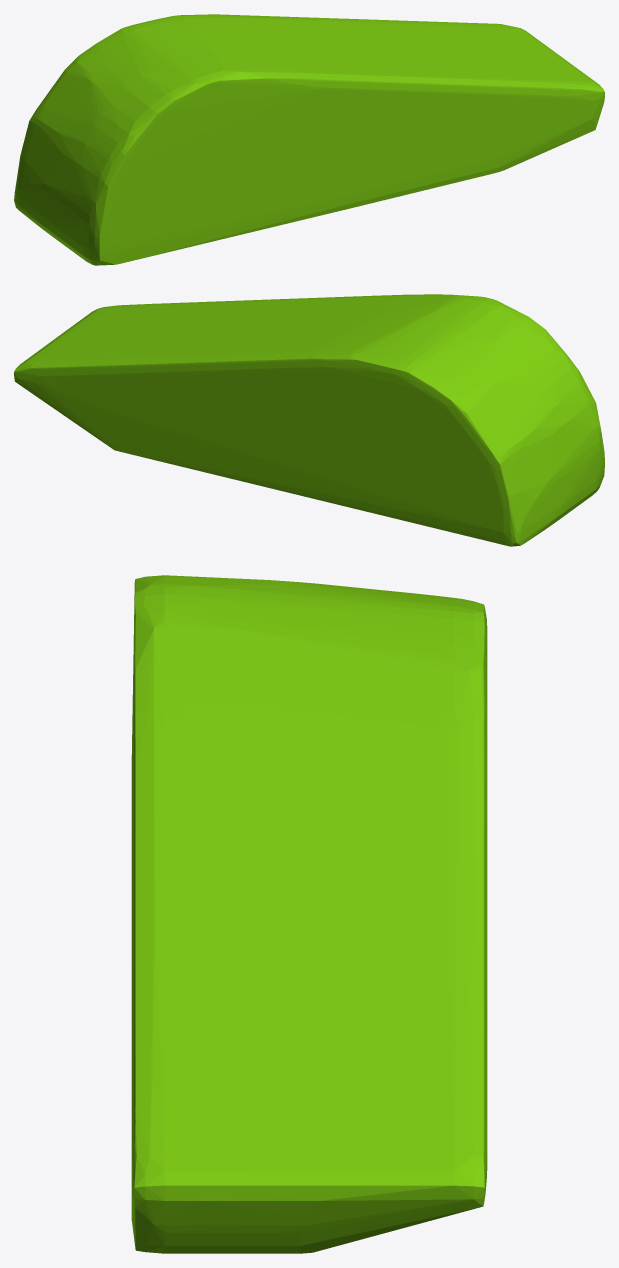
The picture shows the model from 3 angles, top to bottom: view 1: azimuth 30°, elevation 25°; view 2: azimuth 150°, elevation 25°; view 3: azimuth 270°, elevation 25°; orthographic projection. The views are drawn at different scales.
Bounding box in the file's own units: 0.1561 × 0.0476 × 0.0472.
